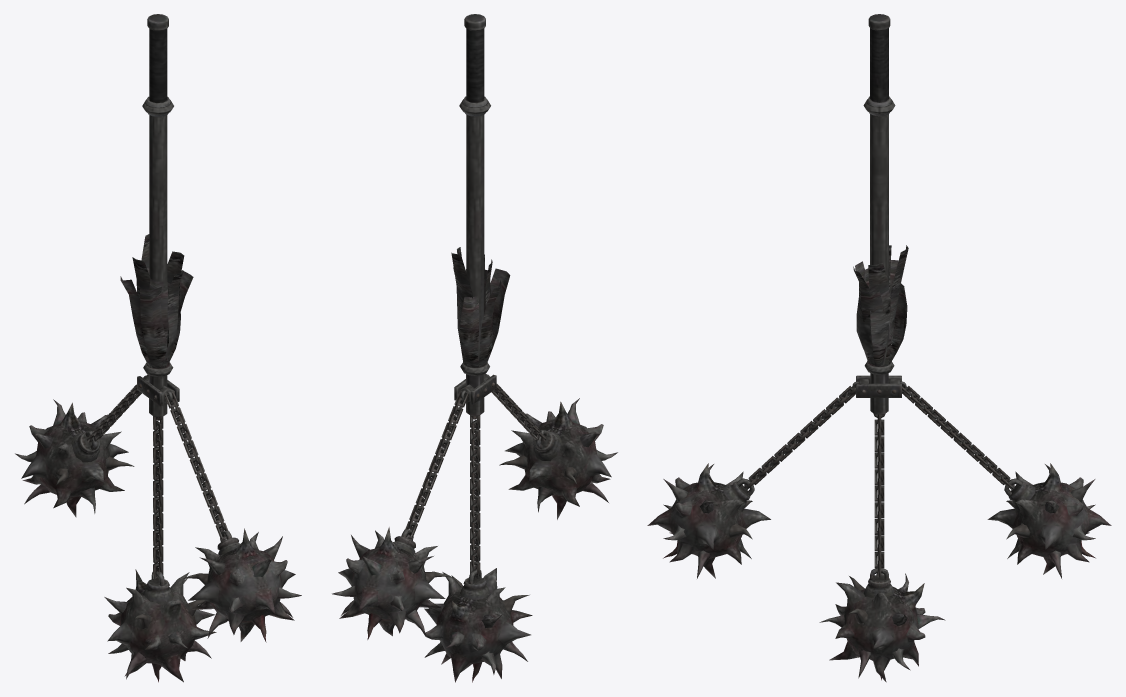
Rendered from weapon-wp_a_1251.glb.
3 views of the same model, side by side, from view 1: azimuth 30°, elevation 25°; view 2: azimuth 150°, elevation 25°; view 3: azimuth 270°, elevation 25° (orthographic).
Visible parts, largest first — view 1: wp_a_1251_mesh; view 2: wp_a_1251_mesh; view 3: wp_a_1251_mesh.
Part boxes in pixels (left/top/right/bottom): wp_a_1251_mesh: left=15, top=14, right=301, bottom=682; wp_a_1251_mesh: left=332, top=14, right=617, bottom=682; wp_a_1251_mesh: left=647, top=14, right=1111, bottom=682.
Bounding box in the file's own units: 0.1913 × 1.13 × 0.7152.
2 materials, 2 textured.
